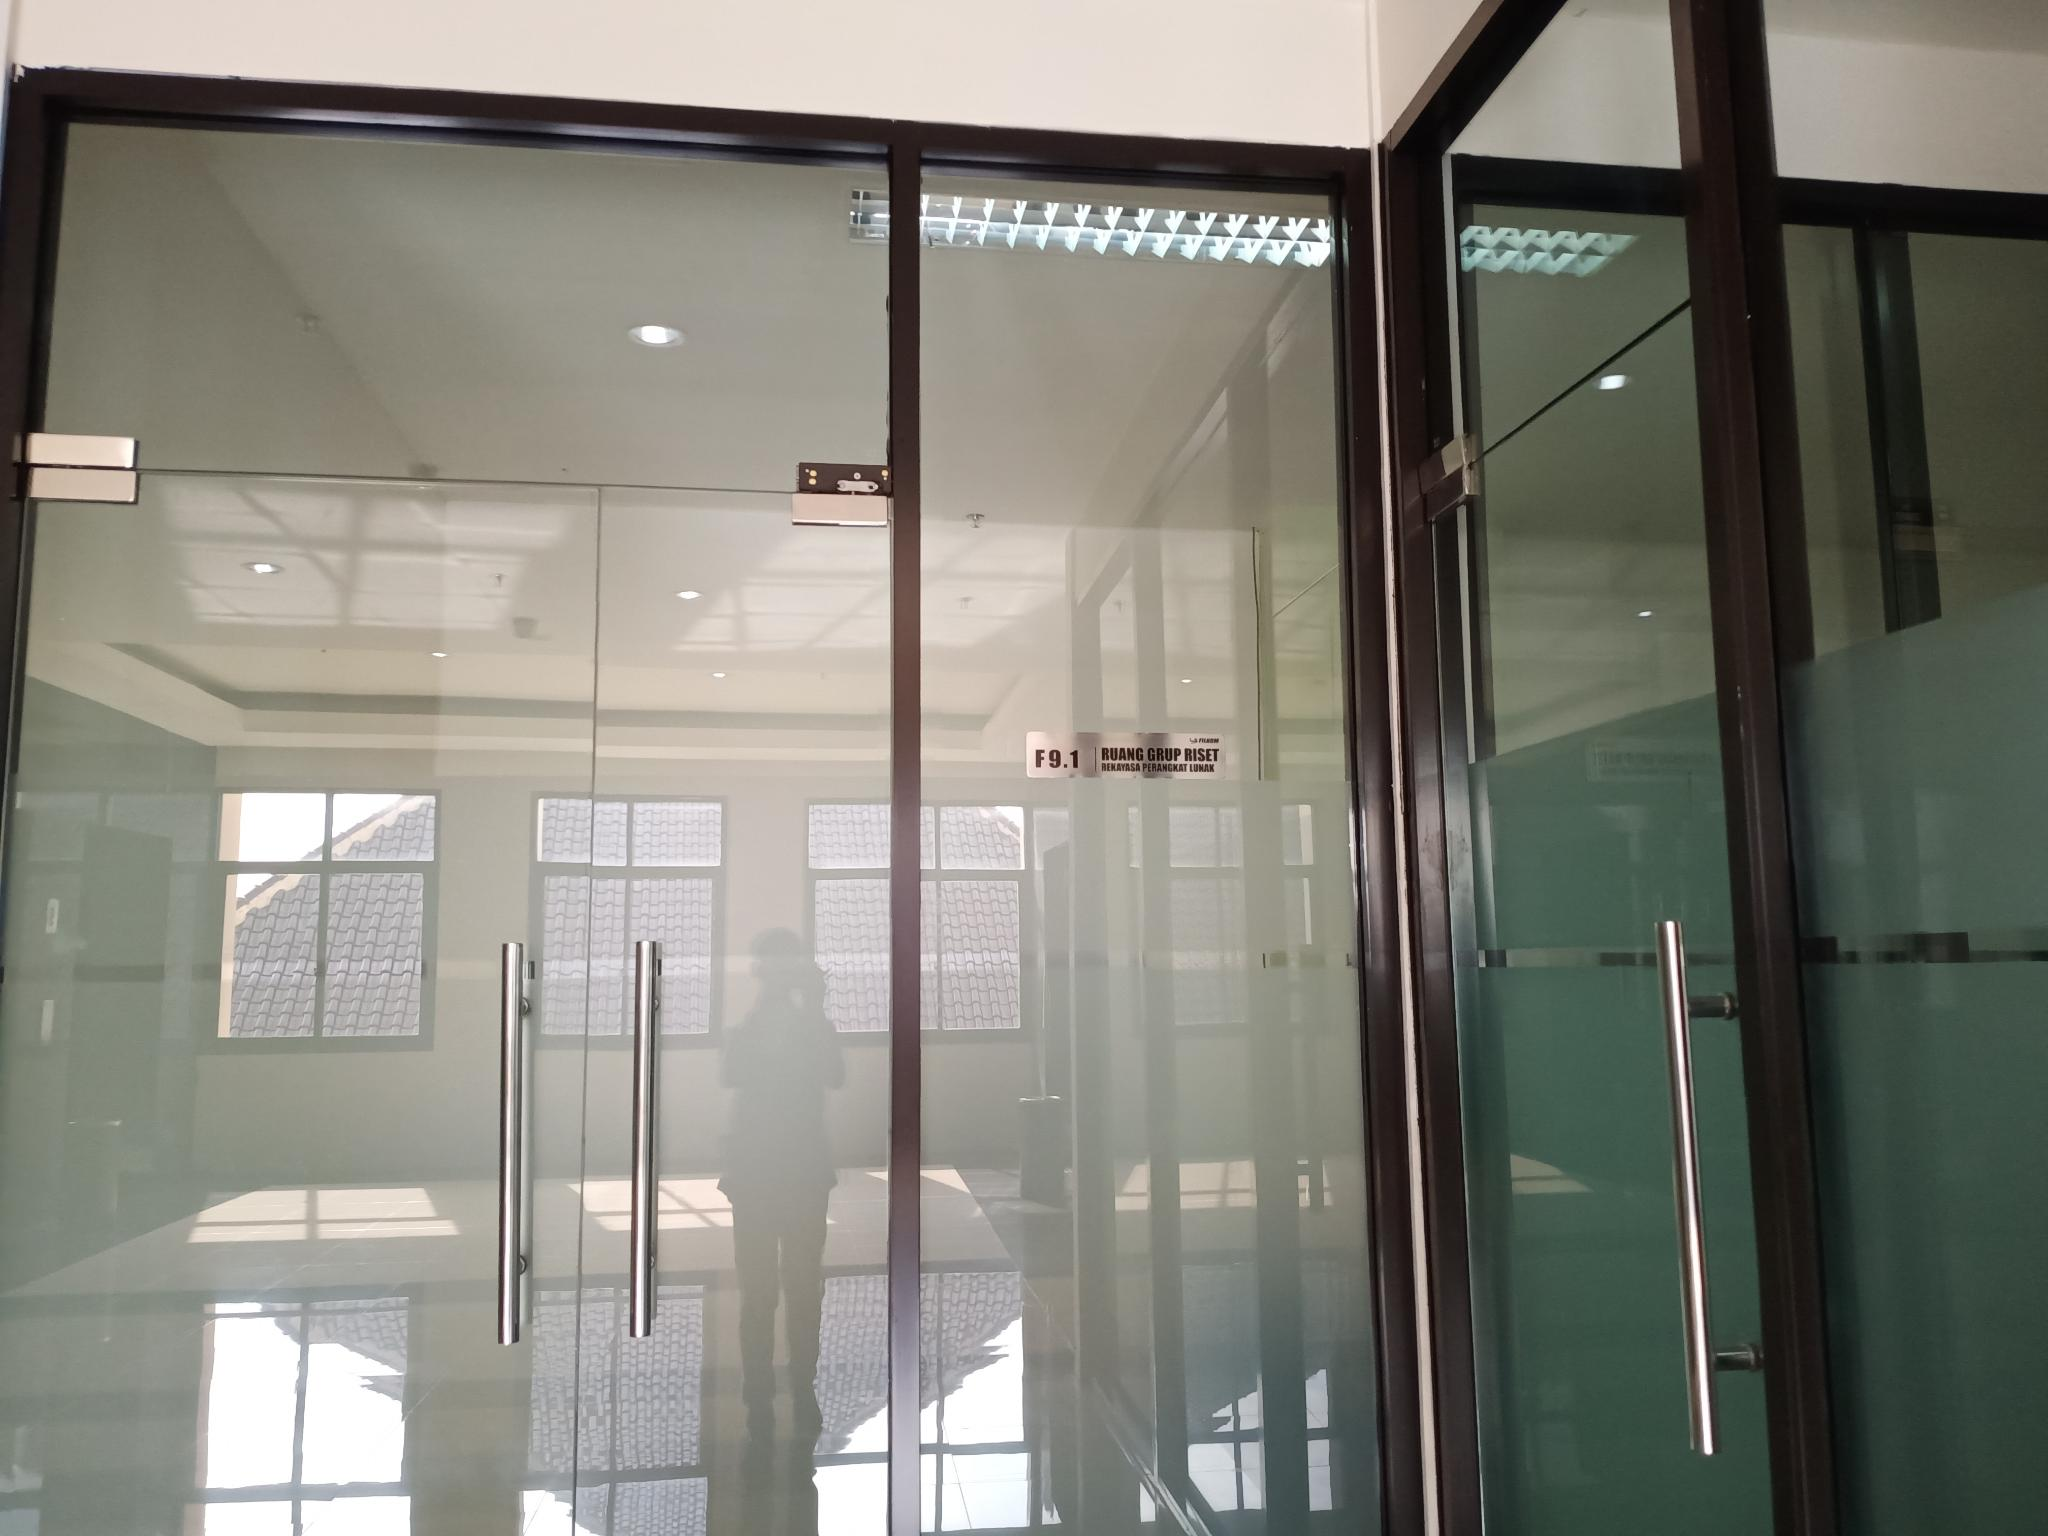plate: (1021, 726, 1227, 786)
